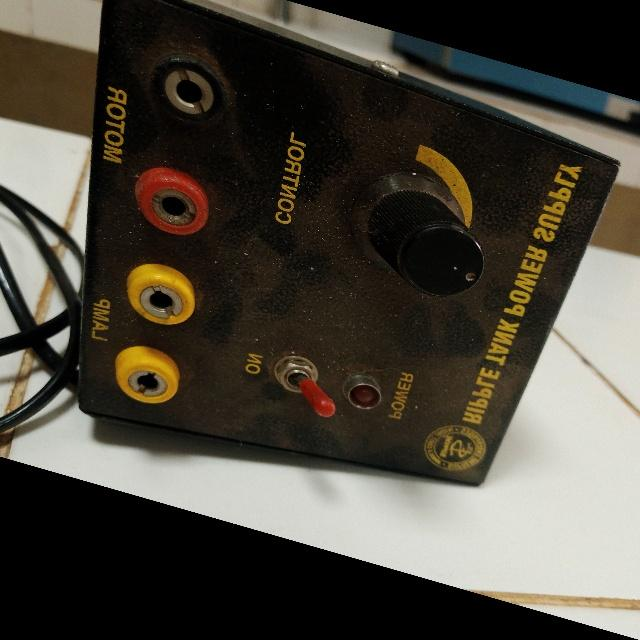Ripple Tank Power Supply: (49, 0, 640, 569)
